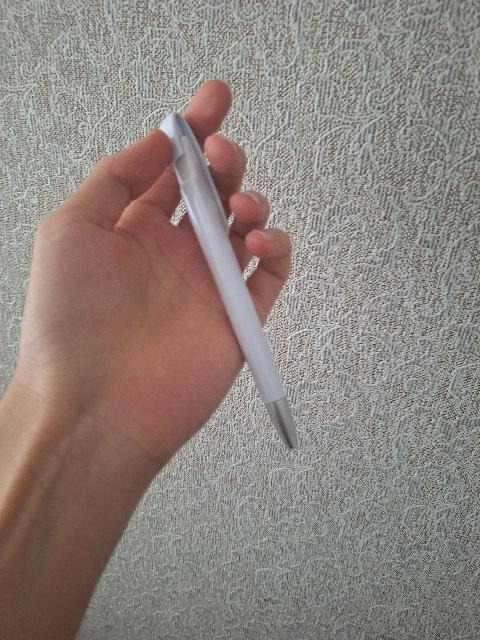writing_tool: (143, 111, 309, 455)
